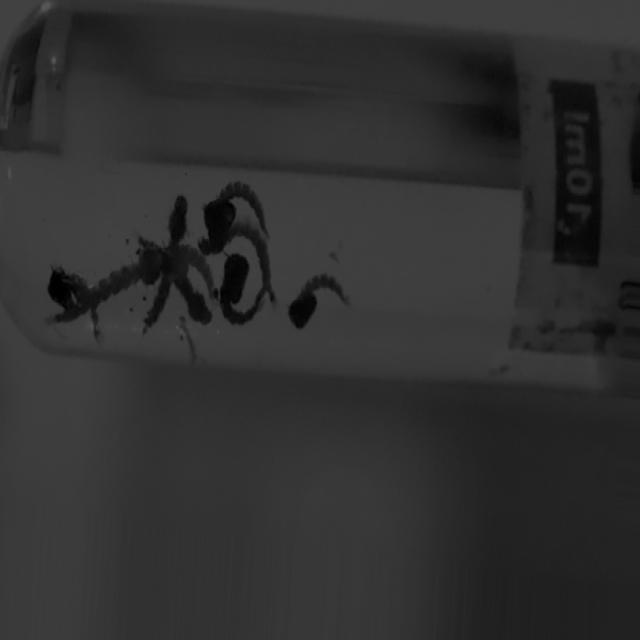larvas: (50, 243, 162, 335), (142, 234, 214, 336), (144, 191, 194, 331), (202, 220, 273, 300), (292, 277, 351, 330), (205, 184, 268, 231), (220, 255, 257, 322), (180, 242, 222, 301), (49, 273, 88, 302)
